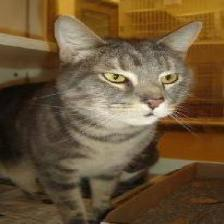cat: (47, 9, 207, 125)
